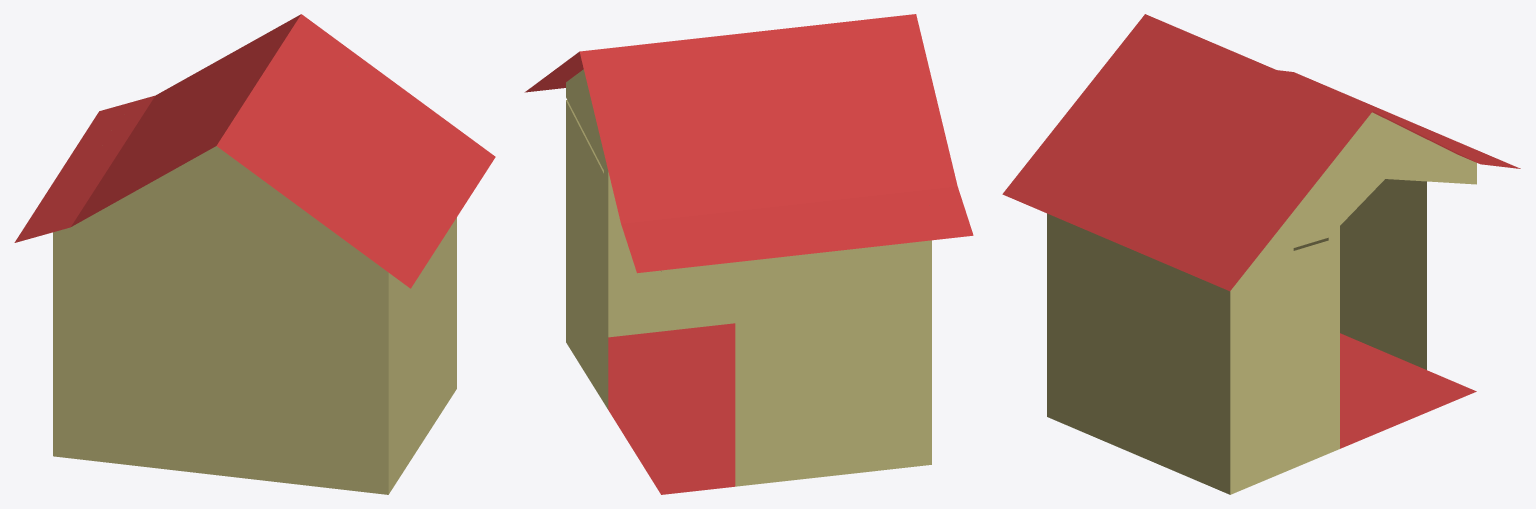
The picture shows the model from 3 angles, left to right: view 1: azimuth 30°, elevation 25°; view 2: azimuth 150°, elevation 25°; view 3: azimuth 270°, elevation 25°; orthographic projection. The views are drawn at different scales.
Bounding box in the file's own units: 16.42 × 16.43 × 11.97.
